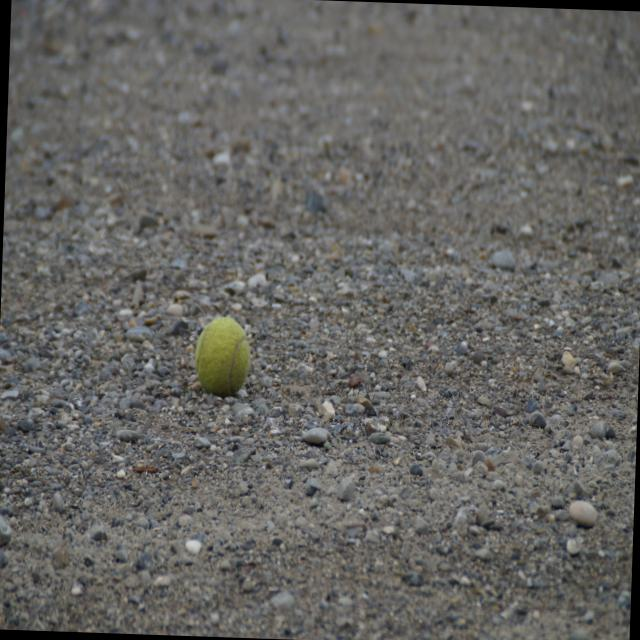Tennis Ball: (190, 315, 256, 398)
